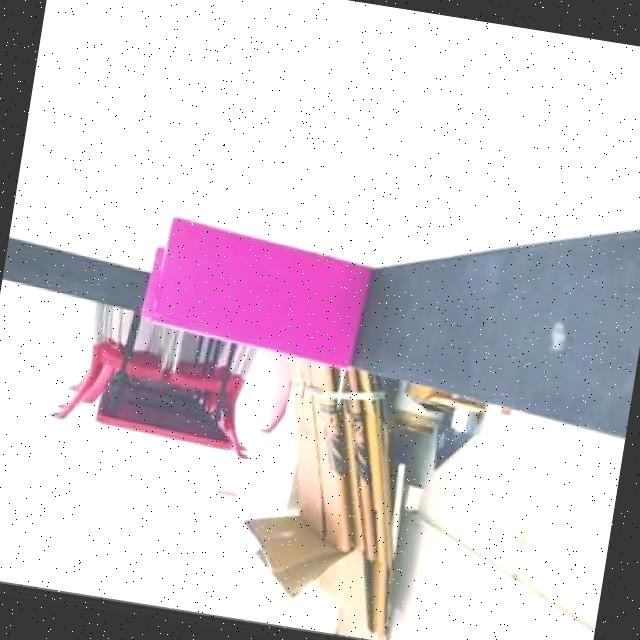xparking: (136, 212, 380, 374)
